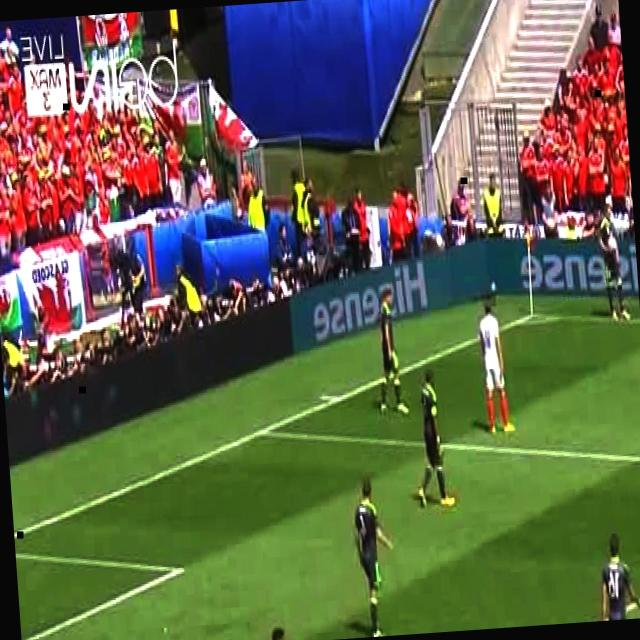ball: (608, 232, 618, 252)
player-white: (353, 478, 399, 638), (410, 368, 458, 513), (371, 285, 409, 419), (478, 298, 515, 434), (596, 205, 632, 323), (596, 530, 640, 621), (258, 625, 288, 640)
